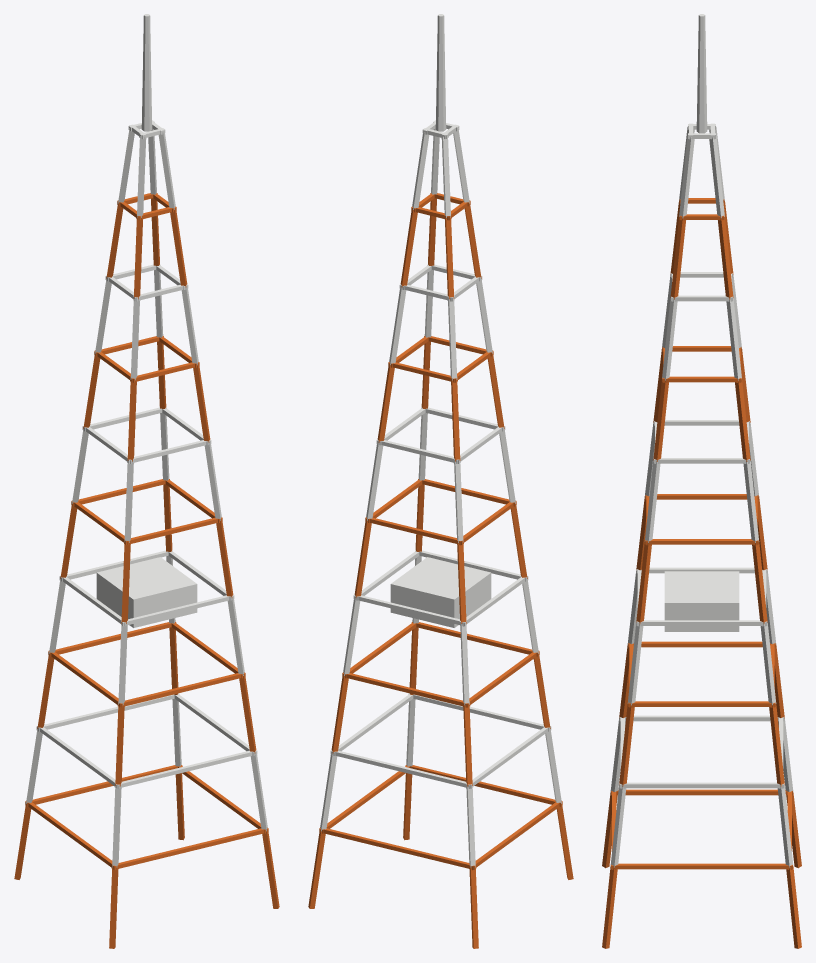
Rendered from city_radio_tower.glb.
The picture shows the model from 3 angles, left to right: view 1: azimuth 30°, elevation 25°; view 2: azimuth 150°, elevation 25°; view 3: azimuth 270°, elevation 25°; orthographic projection.
Visible parts, largest first — view 1: city_radio_tower_white, city_radio_tower_orange; view 2: city_radio_tower_white, city_radio_tower_orange; view 3: city_radio_tower_white, city_radio_tower_orange.
Part boxes in pixels (x1=…): city_radio_tower_white: x1=26, y1=14, x2=267, y2=867; city_radio_tower_orange: x1=14, y1=193, x2=279, y2=948; city_radio_tower_white: x1=320, y1=14, x2=561, y2=867; city_radio_tower_orange: x1=308, y1=193, x2=573, y2=948; city_radio_tower_white: x1=610, y1=14, x2=793, y2=867; city_radio_tower_orange: x1=602, y1=198, x2=801, y2=948.
Size of the model in its own units: 18.7 by 92.03 by 18.7.
